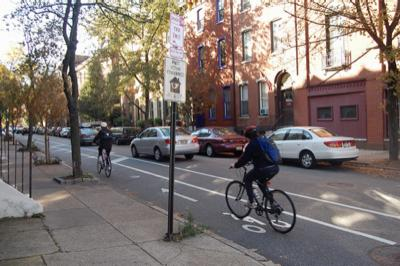With Helmet: (241, 123, 262, 140), (97, 118, 110, 130)
